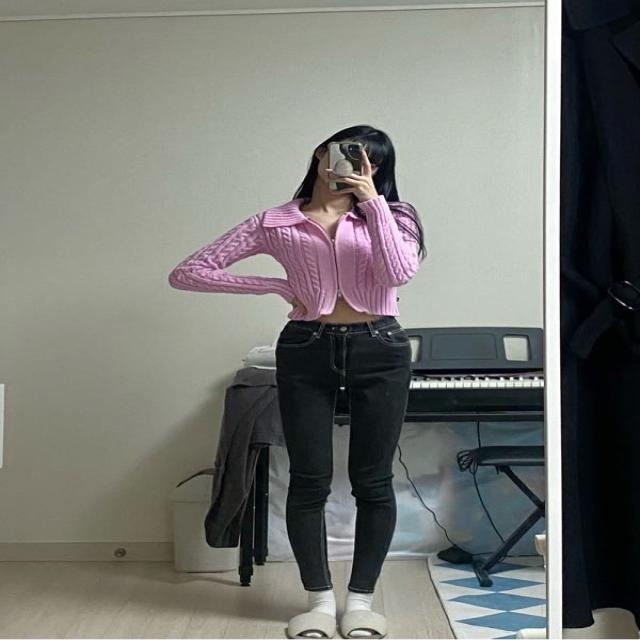cardigan: (171, 189, 426, 318)
denimpants: (278, 312, 414, 598)
